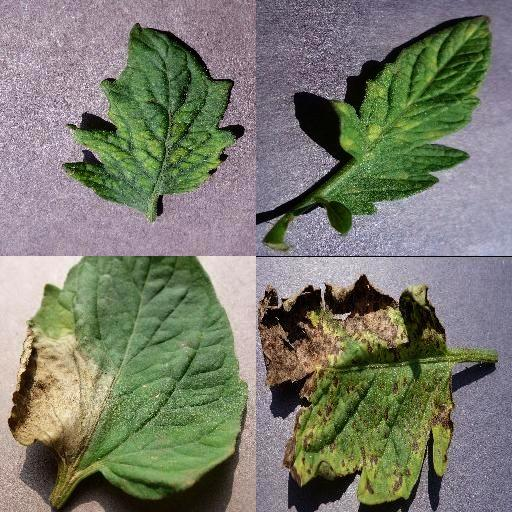Late Blight: (8, 256, 250, 499)
Leaf Mold: (332, 15, 492, 215)
Mosaic Virus: (63, 22, 237, 212)
Septoria: (258, 272, 454, 505)
